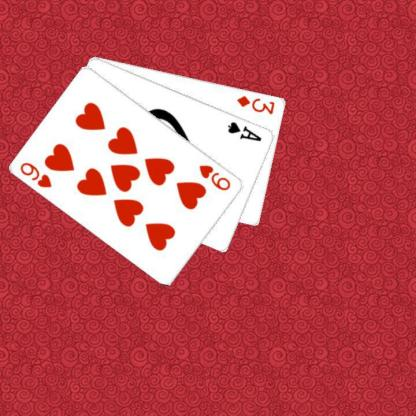3D: (234, 93, 276, 116)
9H: (17, 159, 54, 189), (196, 162, 232, 192)
AS: (226, 119, 263, 143)
